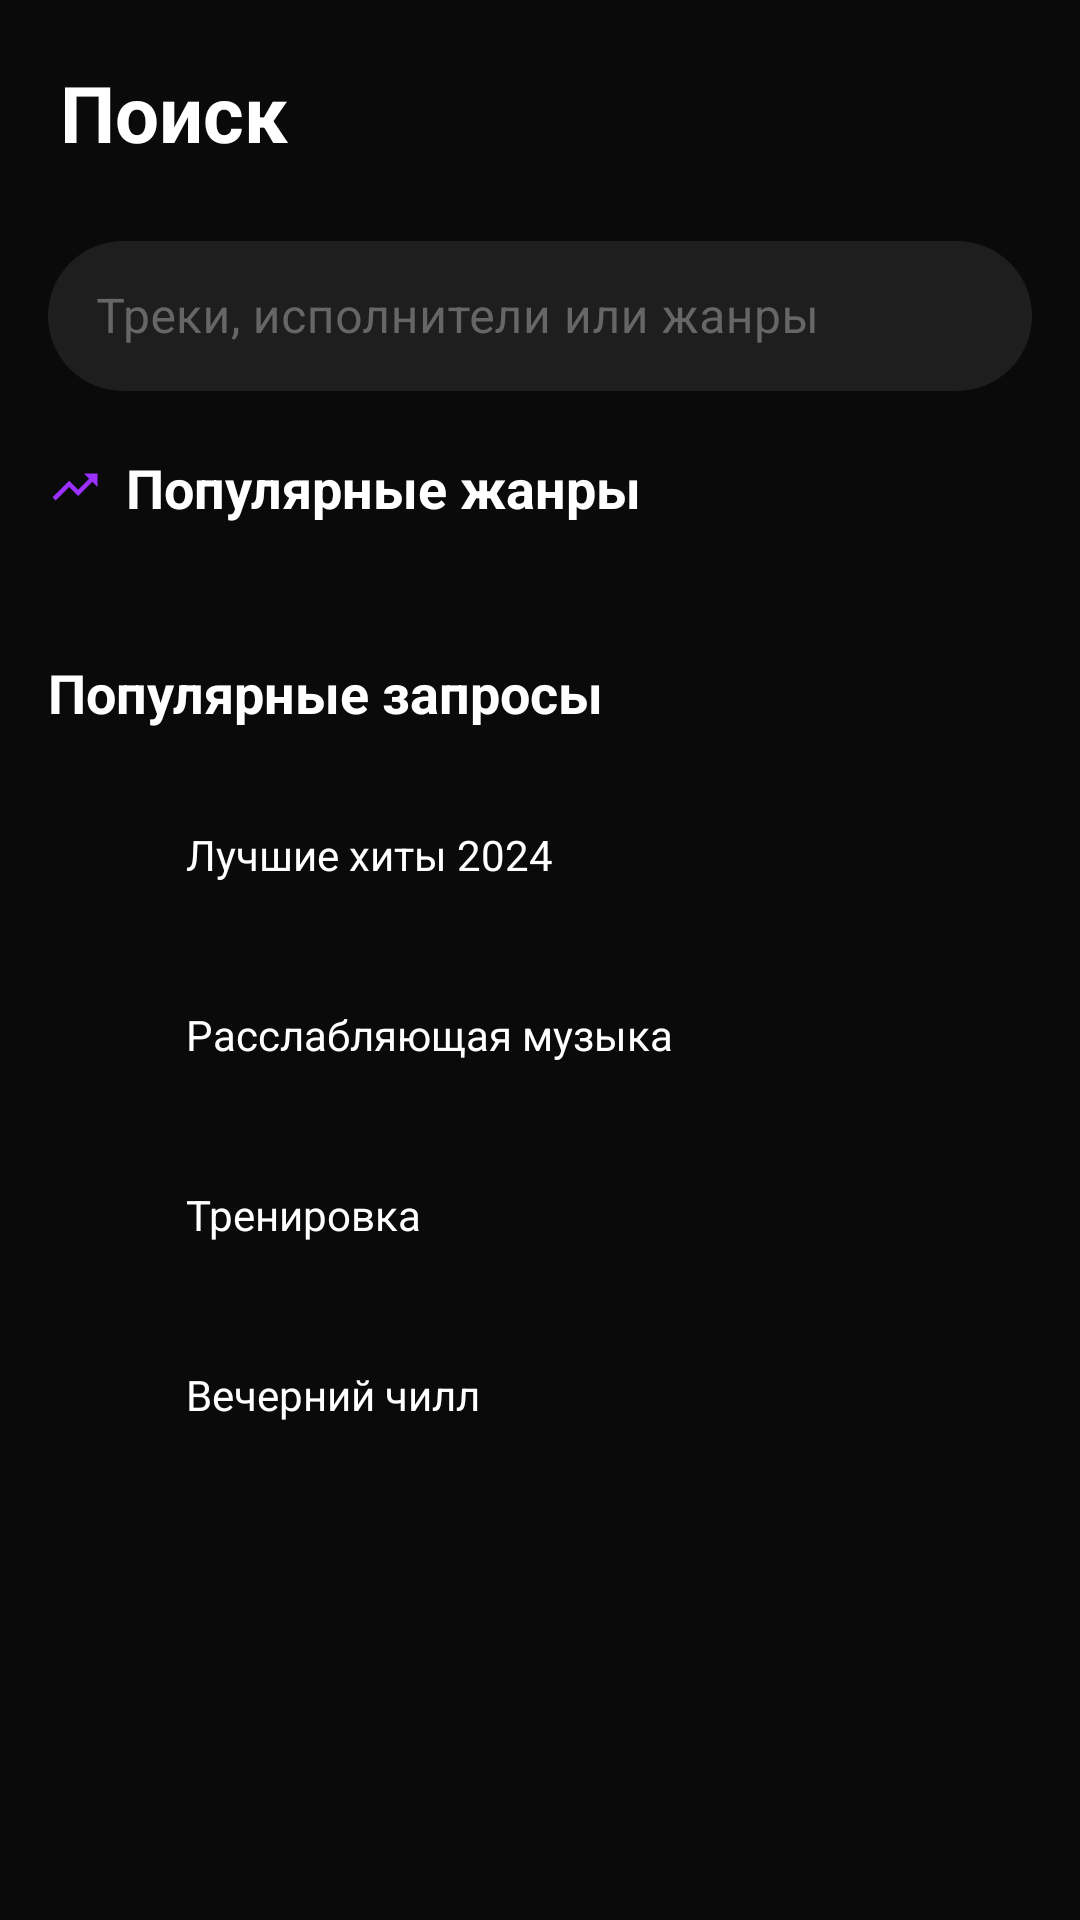

Screen size 1080 x 1920. Icon name, then its center in pixels as [x,y]:
Trending: [75,487]
